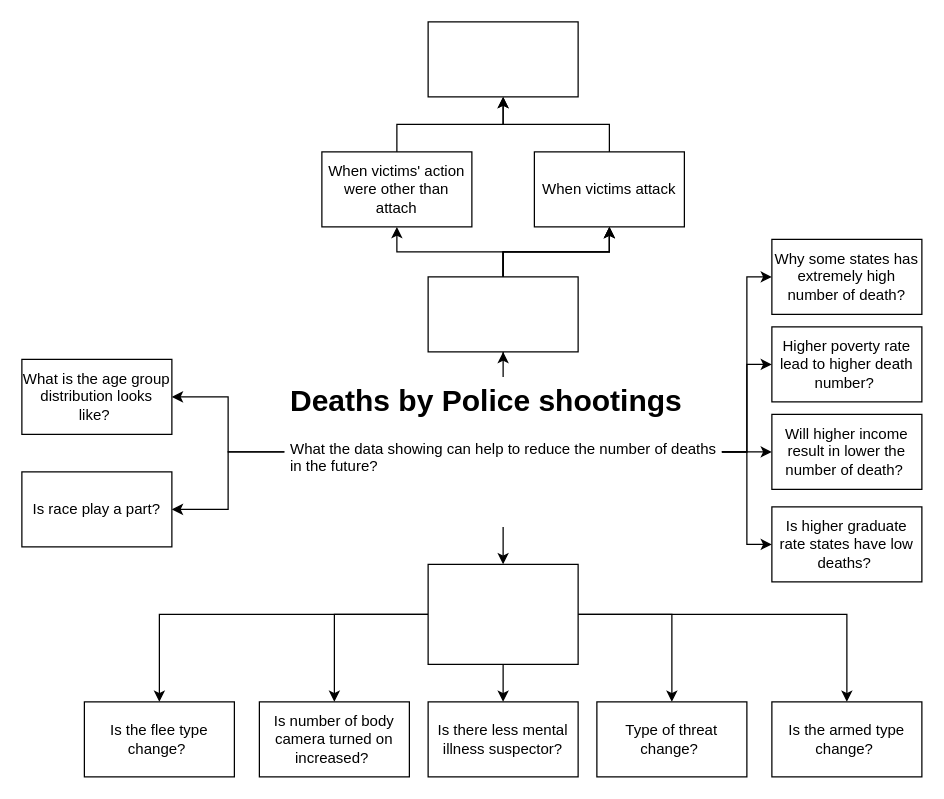
The diagram is 944 pixels wide and 799 high, and some of its shapes have lost their labels. The shapes that lost their labels are listed below. From the top down, each one's centre as x and y in pixels, then its label:
point (502, 59): what are the armed type?
point (502, 314): Is the on duty officer respond to the threat level accordingly?
point (502, 613): The number of deaths drop nearly half between 2016 to 2017? What happened?
